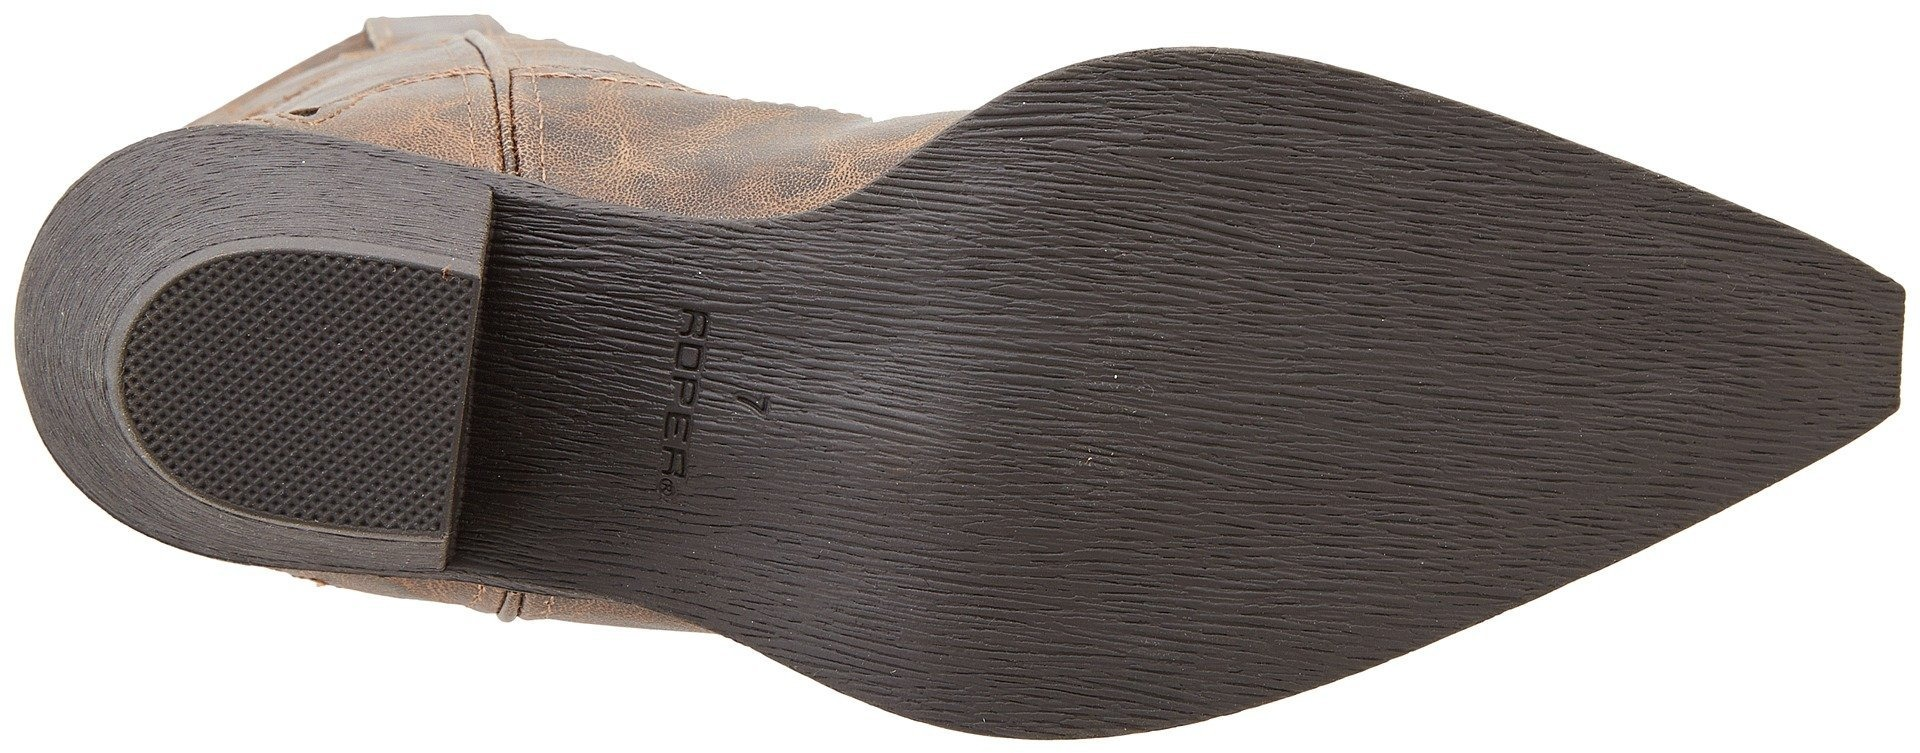exclude: (433, 137, 860, 715)
other: (1128, 107, 1425, 384), (1431, 208, 1720, 492), (862, 201, 1120, 458), (877, 466, 1138, 695), (1140, 395, 1386, 632), (197, 274, 430, 486), (1724, 277, 1876, 422)
